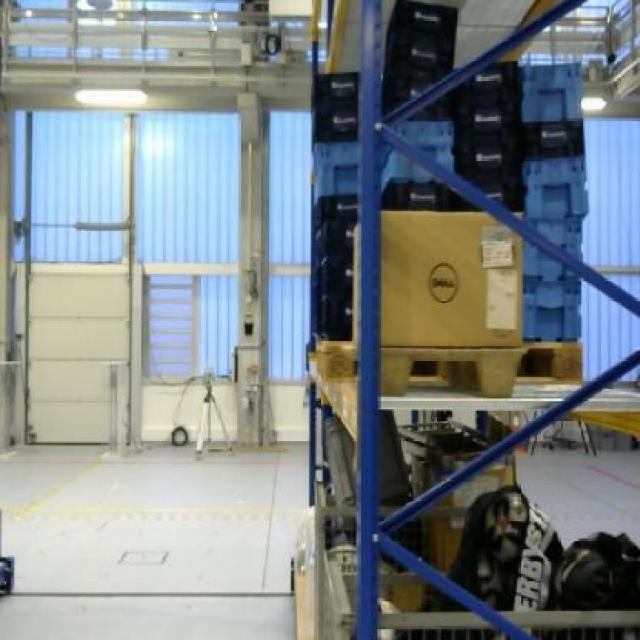box: (380, 210, 522, 344)
